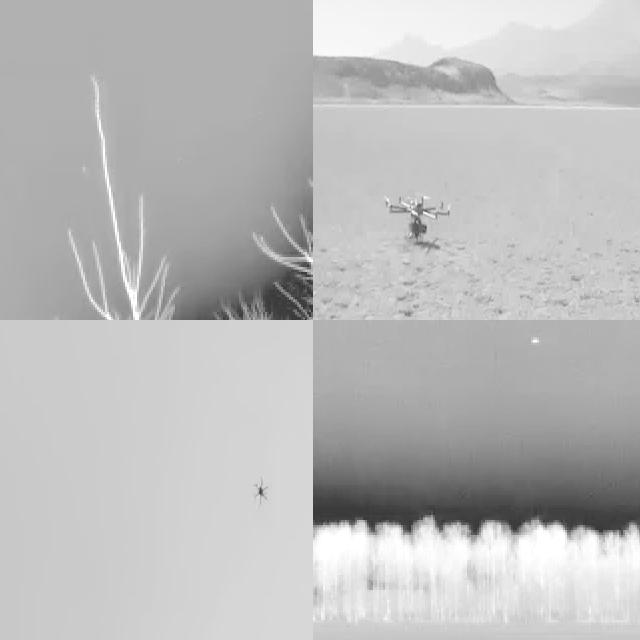0: (67, 160, 91, 180)
1: (512, 324, 550, 364)
drone: (383, 192, 455, 245), (248, 470, 272, 508)
